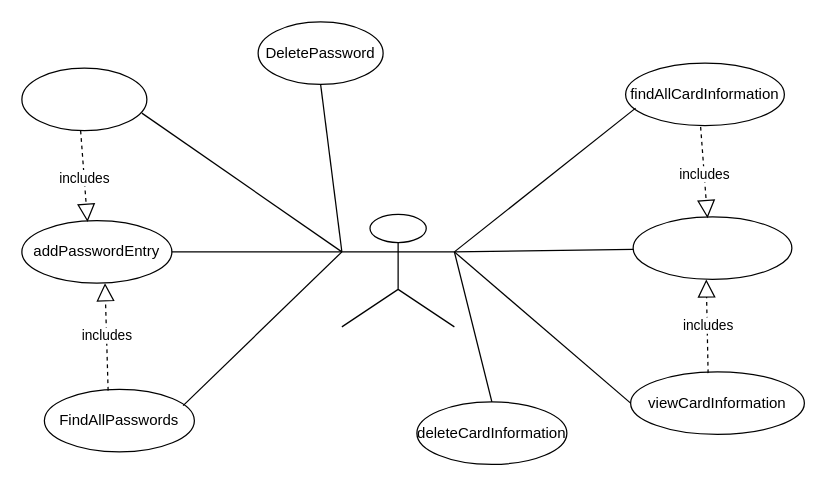
The diagram is 826 pixels wide and 486 high, and some of its shapes have lost their labels. The shapes that lost their labels are listed below. From the top down, each one's box as (x1, y1, x2, y2) in pixels, then its label:
(21, 67, 147, 131): viewPassword
(632, 216, 792, 279): addCardInformation
(341, 213, 454, 327): User
